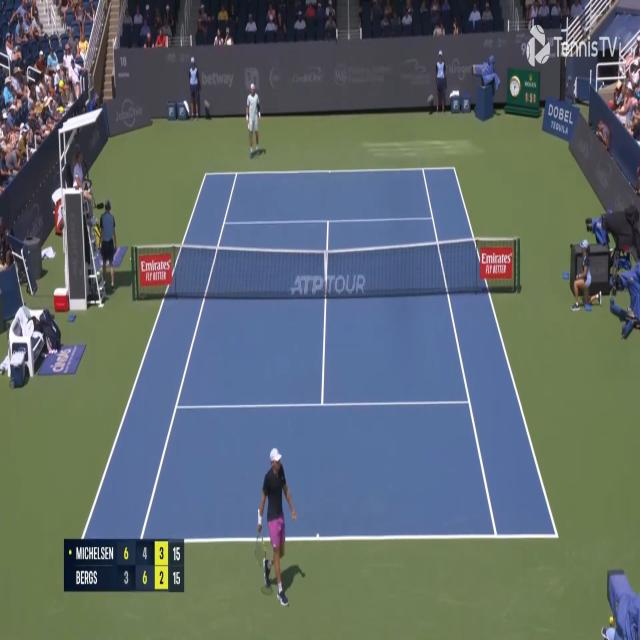tennis-player: (255, 444, 308, 608), (246, 82, 264, 162)
